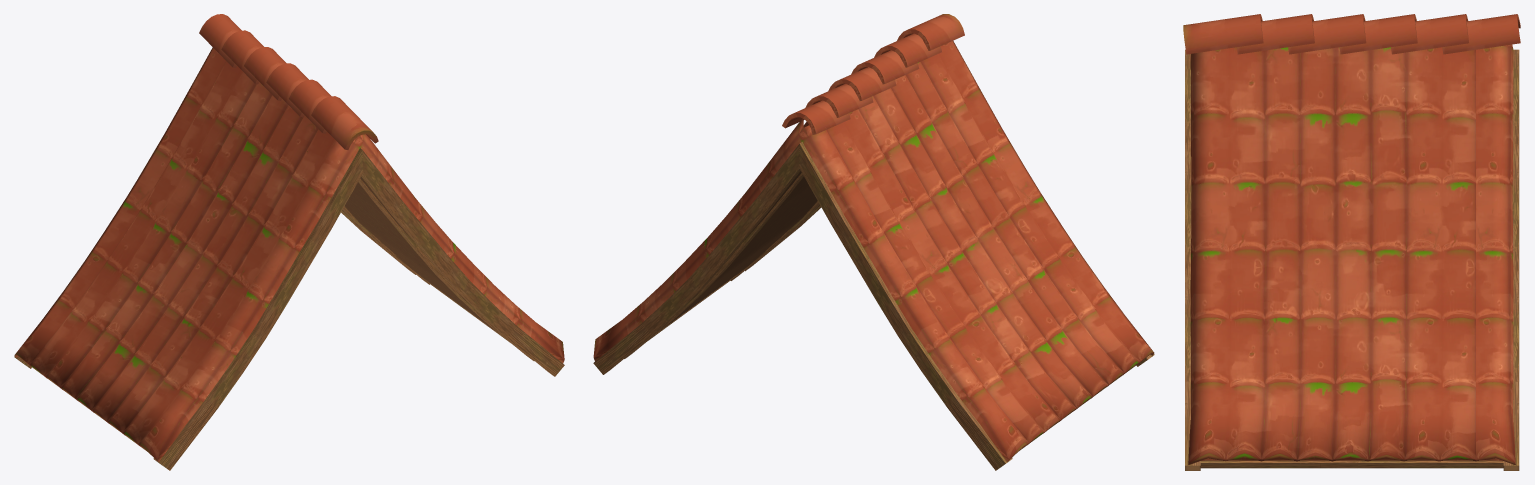
Rendered from roof-roundtiles-6x4.glb.
The picture shows the model from 3 angles, left to right: view 1: azimuth 30°, elevation 25°; view 2: azimuth 150°, elevation 25°; view 3: azimuth 270°, elevation 25°; orthographic projection. The views are drawn at different scales.
Parts seen in each view (by area): view 1: Roof_RoundTiles_6x4; view 2: Roof_RoundTiles_6x4; view 3: Roof_RoundTiles_6x4.
Part boxes in pixels (x1,y1,x2,y2): Roof_RoundTiles_6x4: [14, 14, 564, 470]; Roof_RoundTiles_6x4: [593, 14, 1154, 470]; Roof_RoundTiles_6x4: [1183, 14, 1520, 470].
Size of the model in its own units: 8.25 by 5.67 by 4.99.
2 materials, 2 textured.
